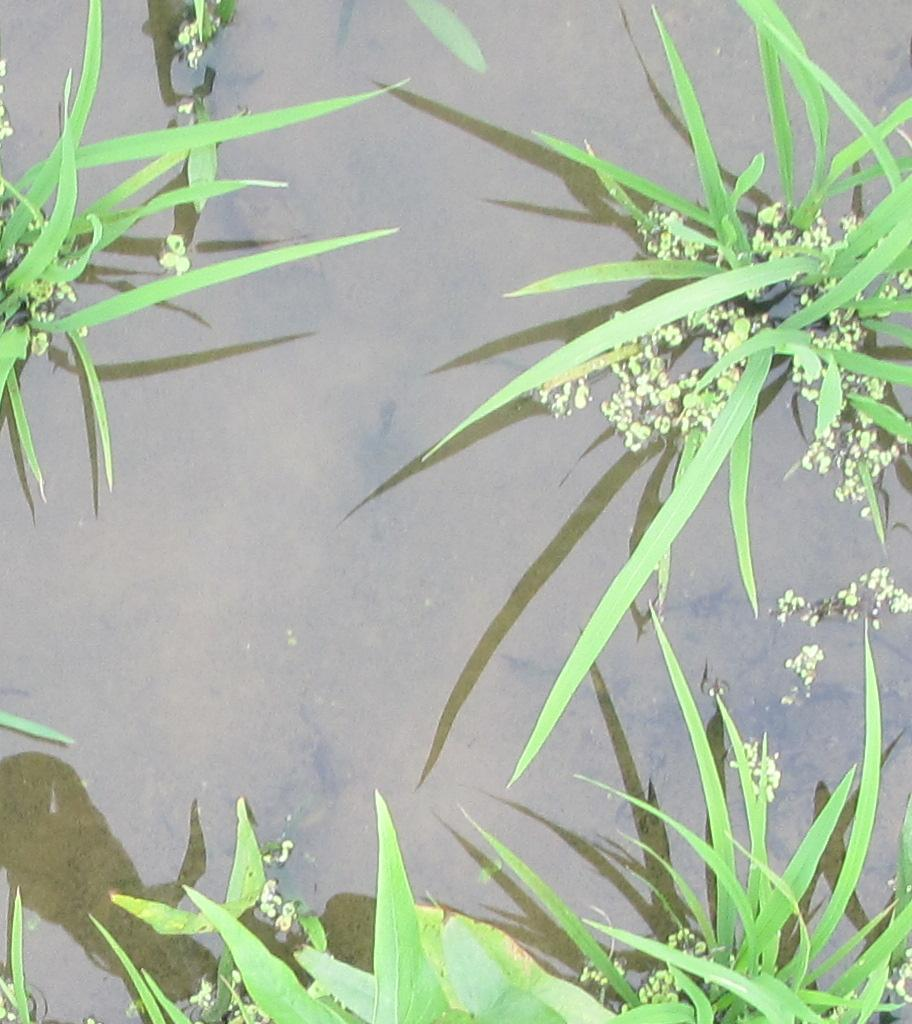Weed: (183, 897, 599, 1024)
